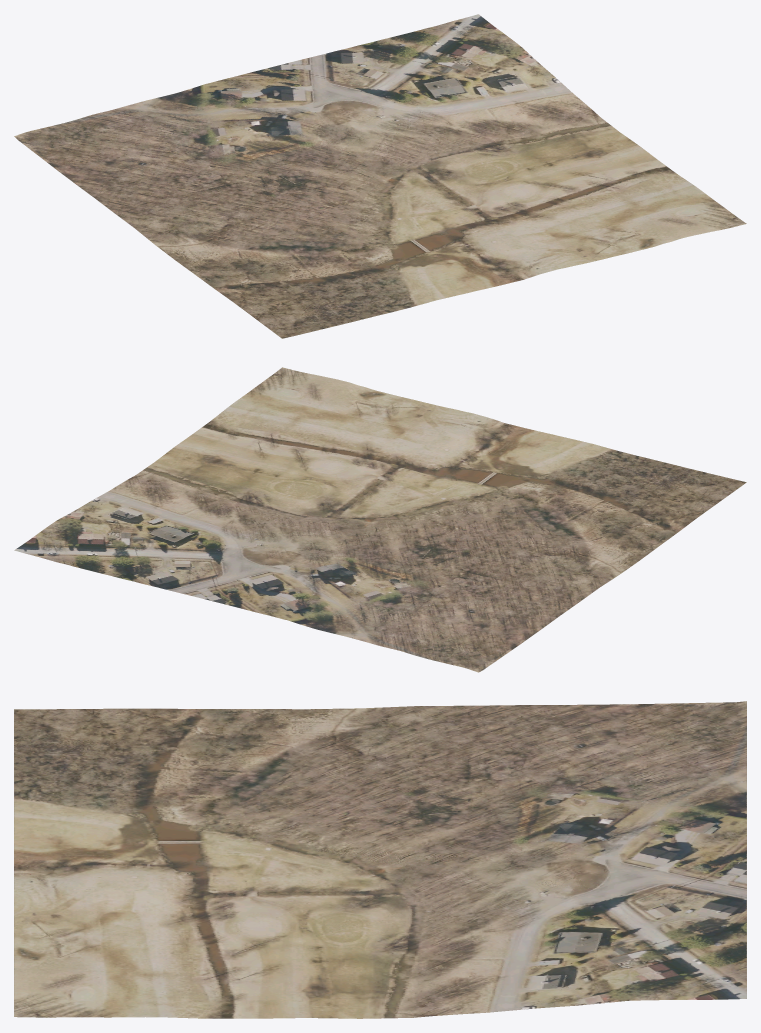
File: CM_Terrain_24491073_6819180.fbx
3 renders of one model, top to bottom at view 1: azimuth 30°, elevation 25°; view 2: azimuth 150°, elevation 25°; view 3: azimuth 270°, elevation 25°, orthographic. The views are drawn at different scales.
Parts seen in each view (by area): view 1: CM_Terrain_24491073_6819180_LOD0; view 2: CM_Terrain_24491073_6819180_LOD0; view 3: CM_Terrain_24491073_6819180_LOD0.
Boxes of the visible parts, <box> form: CM_Terrain_24491073_6819180_LOD0: <box>14,14,746,338</box>; CM_Terrain_24491073_6819180_LOD0: <box>14,367,746,672</box>; CM_Terrain_24491073_6819180_LOD0: <box>14,701,746,1018</box>.
Size of what is drawn, in the model's own units: 205 by 6.48 by 205.
